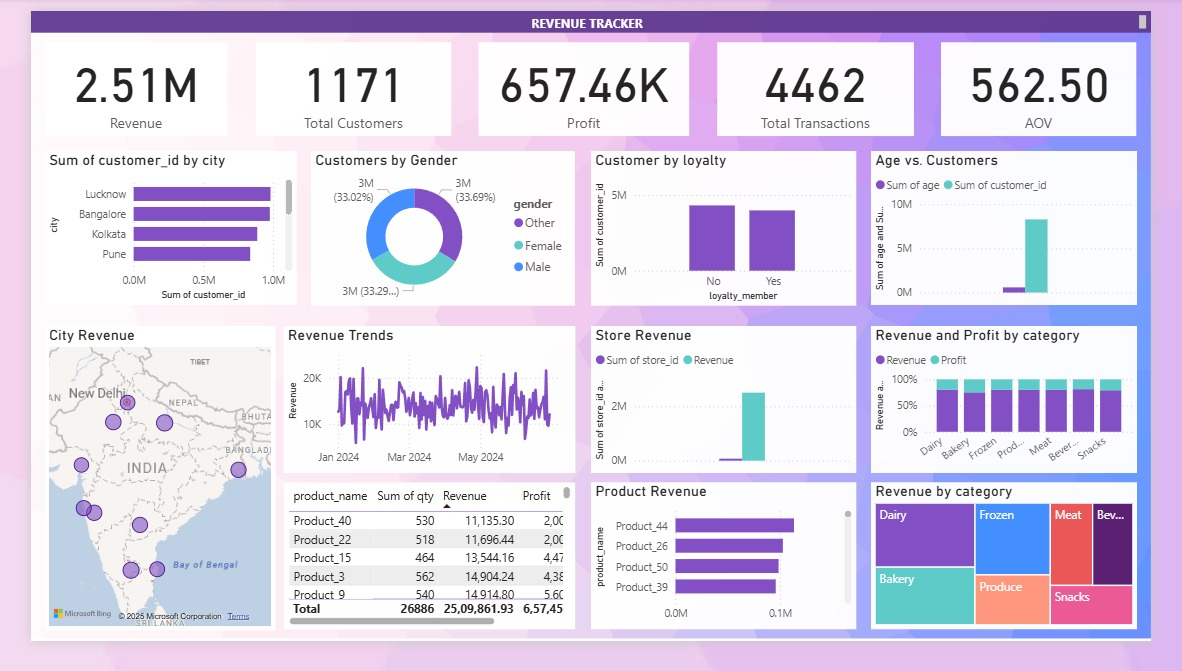

The page's visual inventory and layout, read from the dashboard file:
{"tool":"powerbi","page":{"name":"Page 1","canvas":[1280,720],"ordinal":0},"visuals":[{"type":"card","fields":{"Values":["Sheet1.Revenue"]},"box":[15.9,36.2,208.7,107.2],"z":0},{"type":"card","fields":{"Values":["Sheet1.Profit"]},"box":[511.6,36.2,240.6,107.2],"z":1000},{"type":"card","fields":{"Values":["Sheet1.Total Customers"]},"box":[256.5,36.2,223.2,107.2],"z":2000},{"type":"card","fields":{"Values":["Sheet1.Total Transactions"]},"box":[784.1,36.2,224.6,107.2],"z":3000},{"type":"card","fields":{"Values":["Sheet1.AOV"]},"box":[1040.6,36.2,223.2,107.2],"z":4000},{"type":"donutChart","title":"Customers by Gender","fields":{"Category":["Sheet1.gender"],"Y":["Sum(Sheet1.customer_id)"]},"box":[320.3,159.4,301.4,176.8],"z":5000},{"type":"barChart","fields":{"Category":["Sheet1.city"],"Y":["Sum(Sheet1.customer_id)"]},"box":[16,160,288,176],"z":6000},{"type":"columnChart","title":"Customer by loyalty","fields":{"Category":["Sheet1.loyalty_member"],"Y":["Sum(Sheet1.customer_id)"]},"box":[640.6,159.4,302.9,176.8],"z":7000},{"type":"lineChart","title":"Revenue Trends","fields":{"Category":["Sheet1.transaction_date.Variation.Date Hierarchy.Year","Sheet1.transaction_date.Variation.Date Hierarchy.Quarter","Sheet1.transaction_date.Variation.Date Hierarchy.Month","Sheet1.transaction_date.Variation.Date Hierarchy.Day"],"Y":["Sheet1.Revenue"]},"box":[288.4,359.4,333.3,168.1],"z":8000},{"type":"clusteredColumnChart","title":"Store Revenue","fields":{"Y":["Sum(Sheet1.store_id)","Sheet1.Revenue"]},"box":[640.6,359.4,302.9,168.1],"z":9000},{"type":"clusteredColumnChart","title":"Age vs. Customers","fields":{"Y":["Sum(Sheet1.age)","Sum(Sheet1.customer_id)"]},"box":[960,160,304,176],"z":10000},{"type":"hundredPercentStackedColumnChart","fields":{"Category":["Sheet1.category"],"Y":["Sheet1.Revenue","Sheet1.Profit"]},"box":[959.4,359.4,304.3,168.1],"z":11000},{"type":"tableEx","fields":{"Values":["Sheet1.product_name","Sum(Sheet1.qty)","Sheet1.Revenue","Sheet1.Profit","Sheet1.category"]},"box":[288.4,539.1,333.3,168.1],"z":12000},{"type":"clusteredBarChart","title":"Product Revenue ","fields":{"Category":["Sheet1.product_name"],"Y":["Sheet1.Revenue"]},"box":[640.6,539.1,302.9,168.1],"z":13000},{"type":"treemap","fields":{"Group":["Sheet1.category"],"Values":["Sheet1.Revenue"]},"box":[959.4,539.1,304.3,168.1],"z":14000},{"type":"map","title":"City Revenue ","fields":{"Category":["Sheet1.city"],"Size":["Sheet1.Revenue"]},"box":[15.9,359.4,263.8,347.8],"z":15000},{"type":"textbox","box":[0,0,1279.7,24.6],"z":16000}]}

Visuals, with their boxes in screenshot pixels (x1, y1, x2, y2), scaled from the page's 1280x720 canvas onto the 1182x671 screenshot:
card - Sheet1.Revenue: select_region(15, 34, 207, 134)
card - Sheet1.Profit: select_region(472, 34, 695, 134)
card - Sheet1.Total Customers: select_region(237, 34, 443, 134)
card - Sheet1.Total Transactions: select_region(724, 34, 931, 134)
card - Sheet1.AOV: select_region(961, 34, 1167, 134)
"Customers by Gender" donutChart: select_region(296, 149, 574, 313)
barChart - Sheet1.city x Sum(Sheet1.customer_id): select_region(15, 149, 281, 313)
"Customer by loyalty" columnChart: select_region(592, 149, 871, 313)
"Revenue Trends" lineChart: select_region(266, 335, 574, 492)
"Store Revenue" clusteredColumnChart: select_region(592, 335, 871, 492)
"Age vs. Customers" clusteredColumnChart: select_region(886, 149, 1167, 313)
hundredPercentStackedColumnChart - Sheet1.category x Sheet1.Revenue: select_region(886, 335, 1167, 492)
tableEx - Sheet1.product_name x Sum(Sheet1.qty): select_region(266, 502, 574, 659)
"Product Revenue " clusteredBarChart: select_region(592, 502, 871, 659)
treemap - Sheet1.category x Sheet1.Revenue: select_region(886, 502, 1167, 659)
"City Revenue " map: select_region(15, 335, 258, 659)
textbox: select_region(0, 0, 1181, 23)
